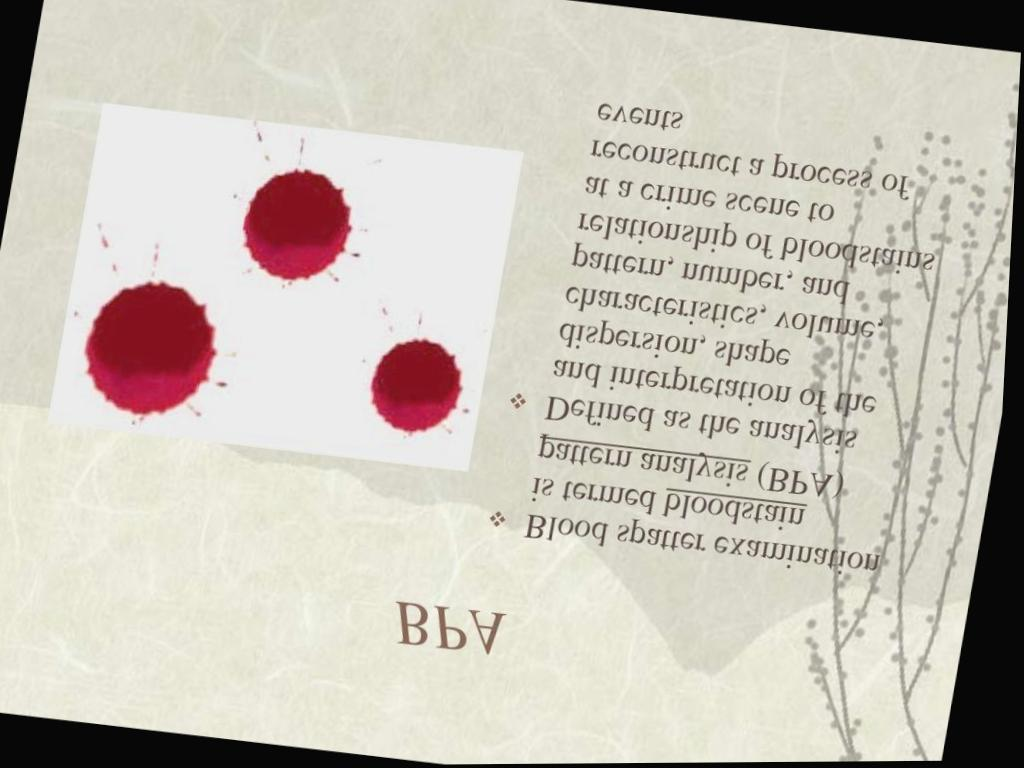Fire: (87, 282, 221, 420), (244, 169, 354, 281), (373, 339, 467, 434)
